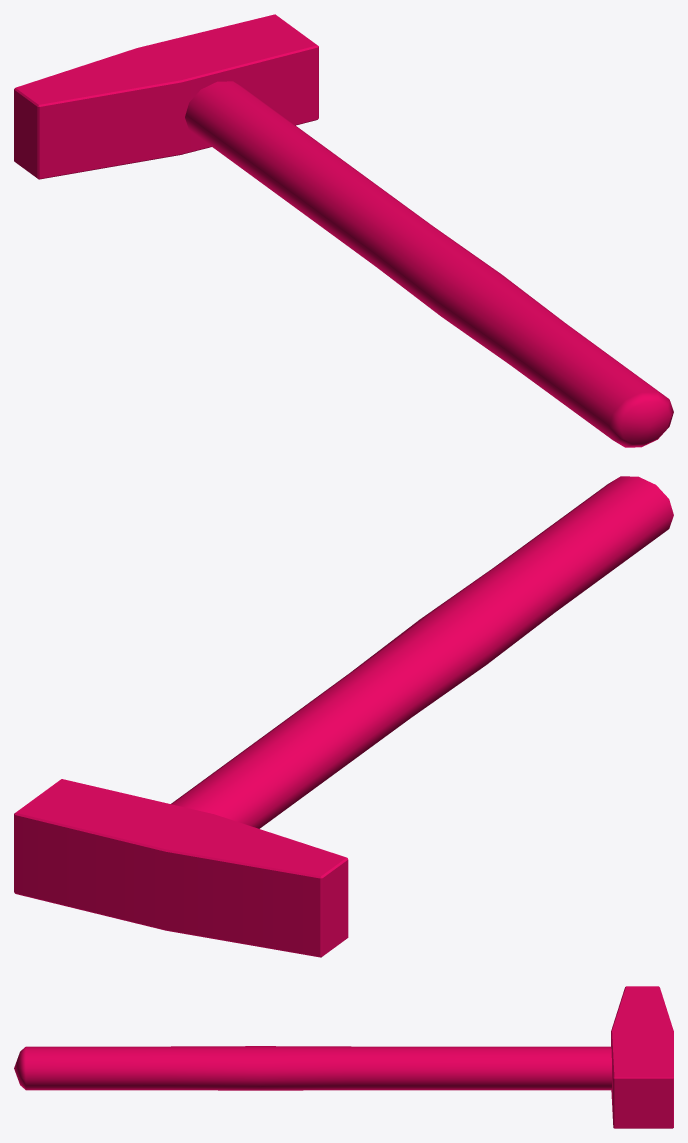
The model's file is Hammer_01_Lod0.fbx.
3 views of the same model, one above another, from view 1: azimuth 30°, elevation 25°; view 2: azimuth 150°, elevation 25°; view 3: azimuth 270°, elevation 25° (orthographic). The views are drawn at different scales.
Visible parts, largest first — view 1: Hammer_01_Lod0; view 2: Hammer_01_Lod0; view 3: Hammer_01_Lod0.
Part boxes in pixels (box(x1,y1,x2,y2)): Hammer_01_Lod0: box(14, 14, 673, 447); Hammer_01_Lod0: box(14, 476, 673, 957); Hammer_01_Lod0: box(14, 986, 673, 1128).
Size of the model in its own units: 13.67 by 3.57 by 41.5.
